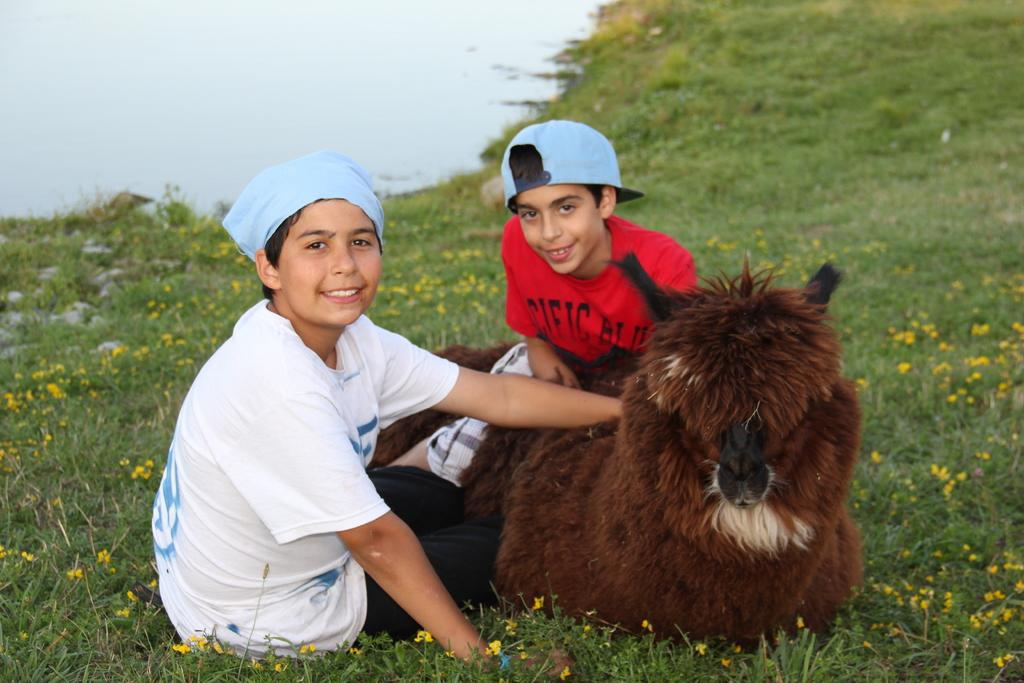Hat: (503, 119, 643, 205)
